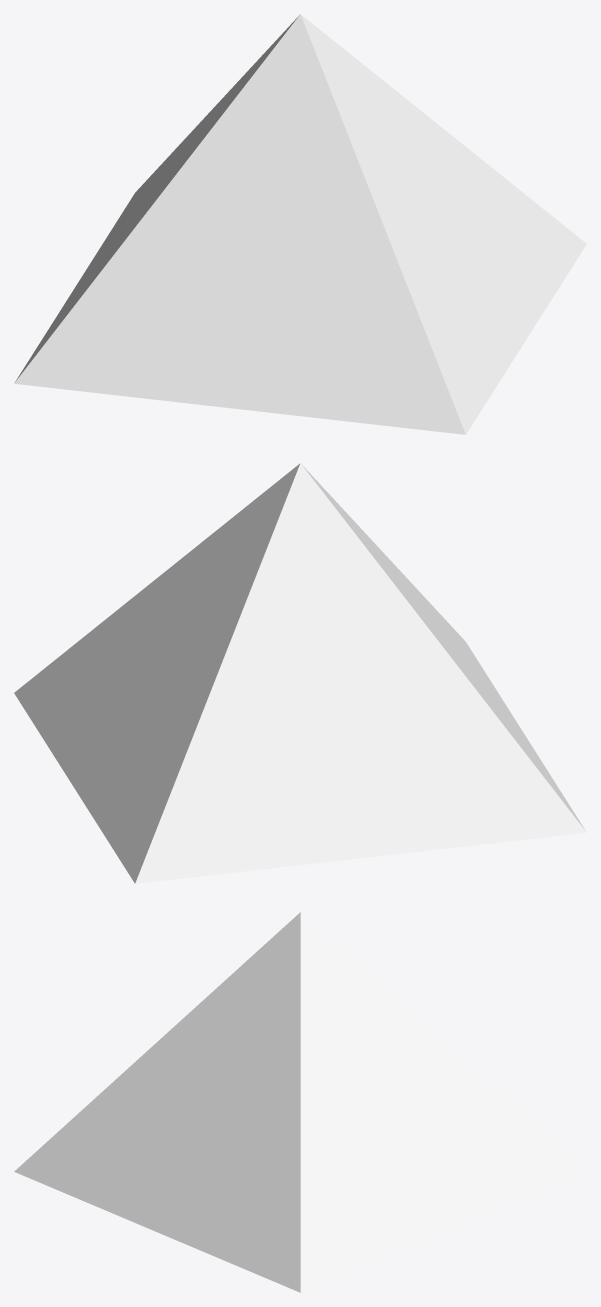
The picture shows the model from 3 angles, top to bottom: view 1: azimuth 30°, elevation 25°; view 2: azimuth 150°, elevation 25°; view 3: azimuth 270°, elevation 25°; orthographic projection. The views are drawn at different scales.
Visible parts, largest first — view 1: pPyramid1; view 2: pPyramid1; view 3: pPyramid1.
Boxes of the visible parts, x1=… form: pPyramid1: x1=14, y1=14, x2=586, y2=434; pPyramid1: x1=14, y1=463, x2=586, y2=883; pPyramid1: x1=14, y1=912, x2=586, y2=1292.
Size of the model in its own units: 1.41 by 0.7071 by 1.41.
1 material, 1 textured.
